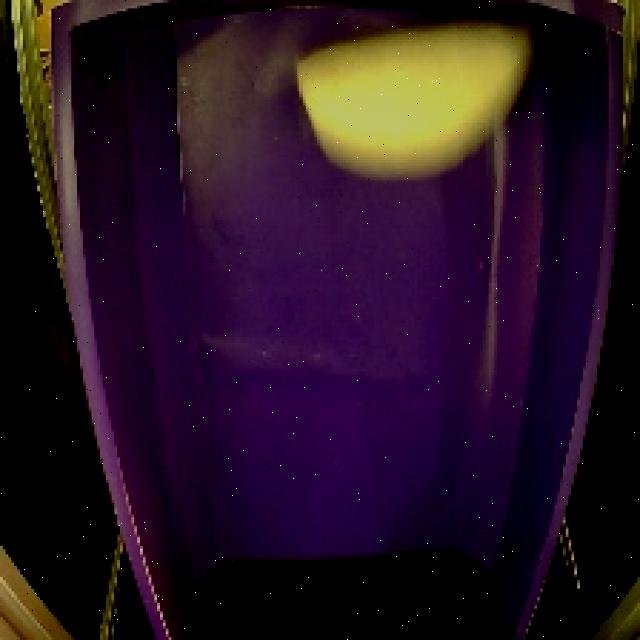white_radish: (284, 20, 544, 186)
